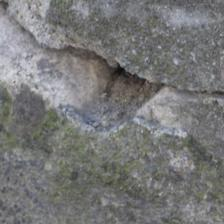Crack: (6, 12, 170, 135), (163, 78, 223, 109)
